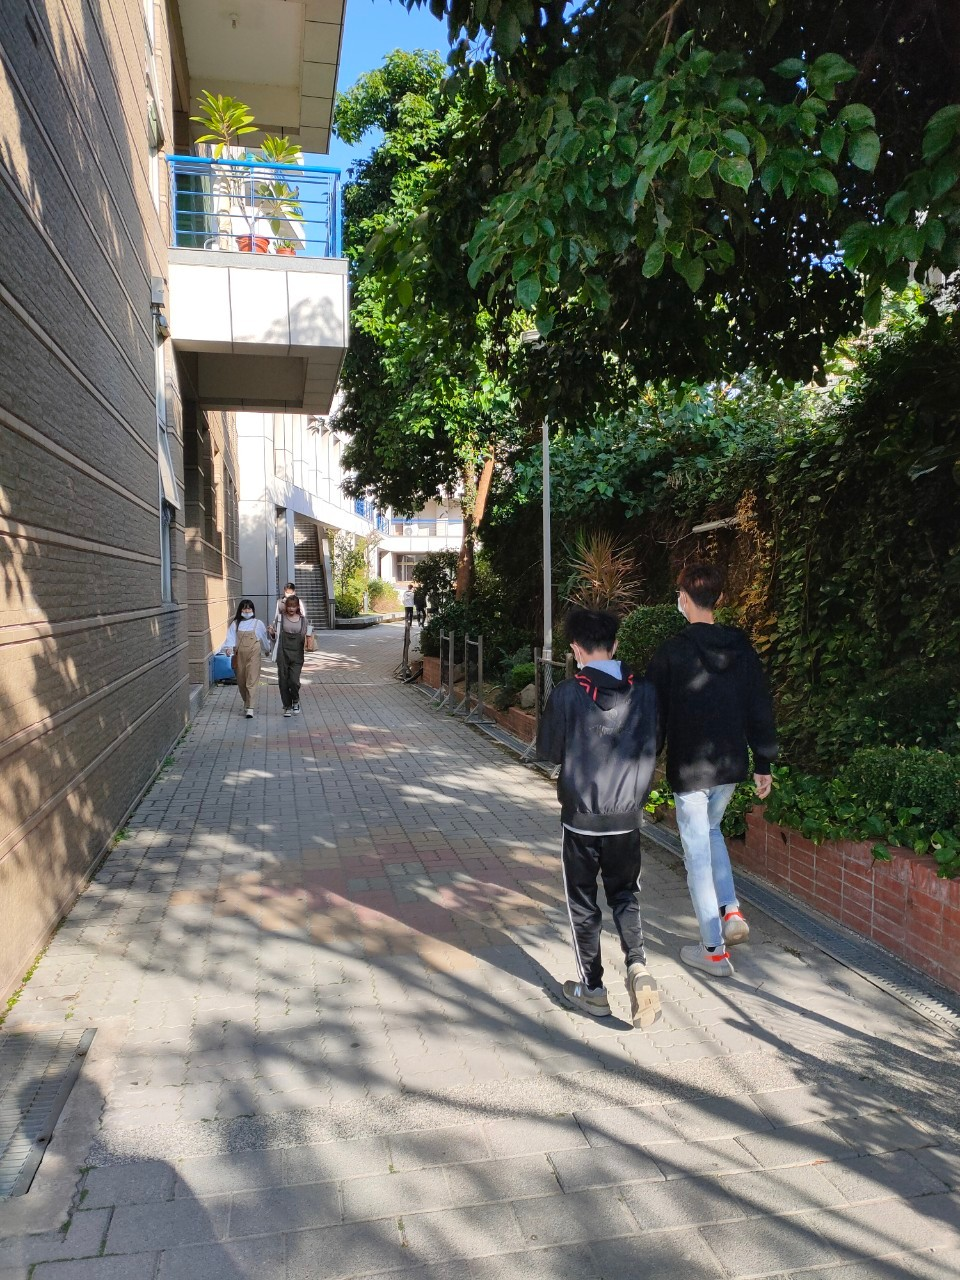people: (523, 610, 674, 1031), (664, 565, 785, 990), (230, 598, 272, 731), (278, 594, 313, 712), (274, 576, 311, 623)
